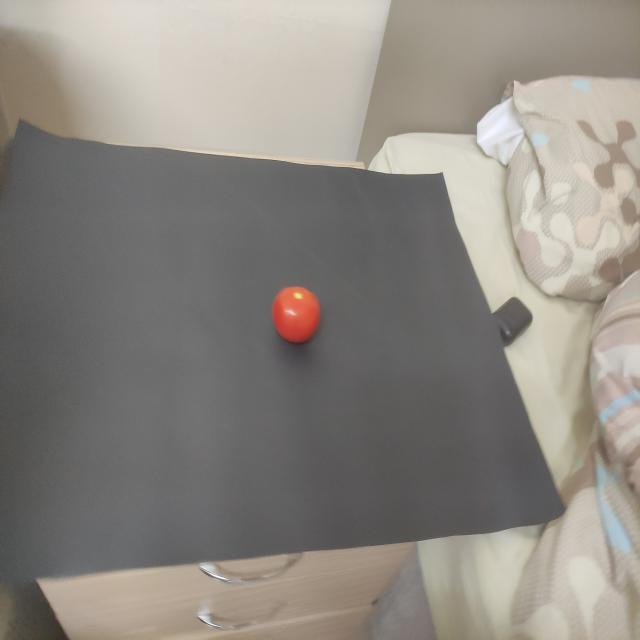kirmizi: (257, 269, 346, 361)
